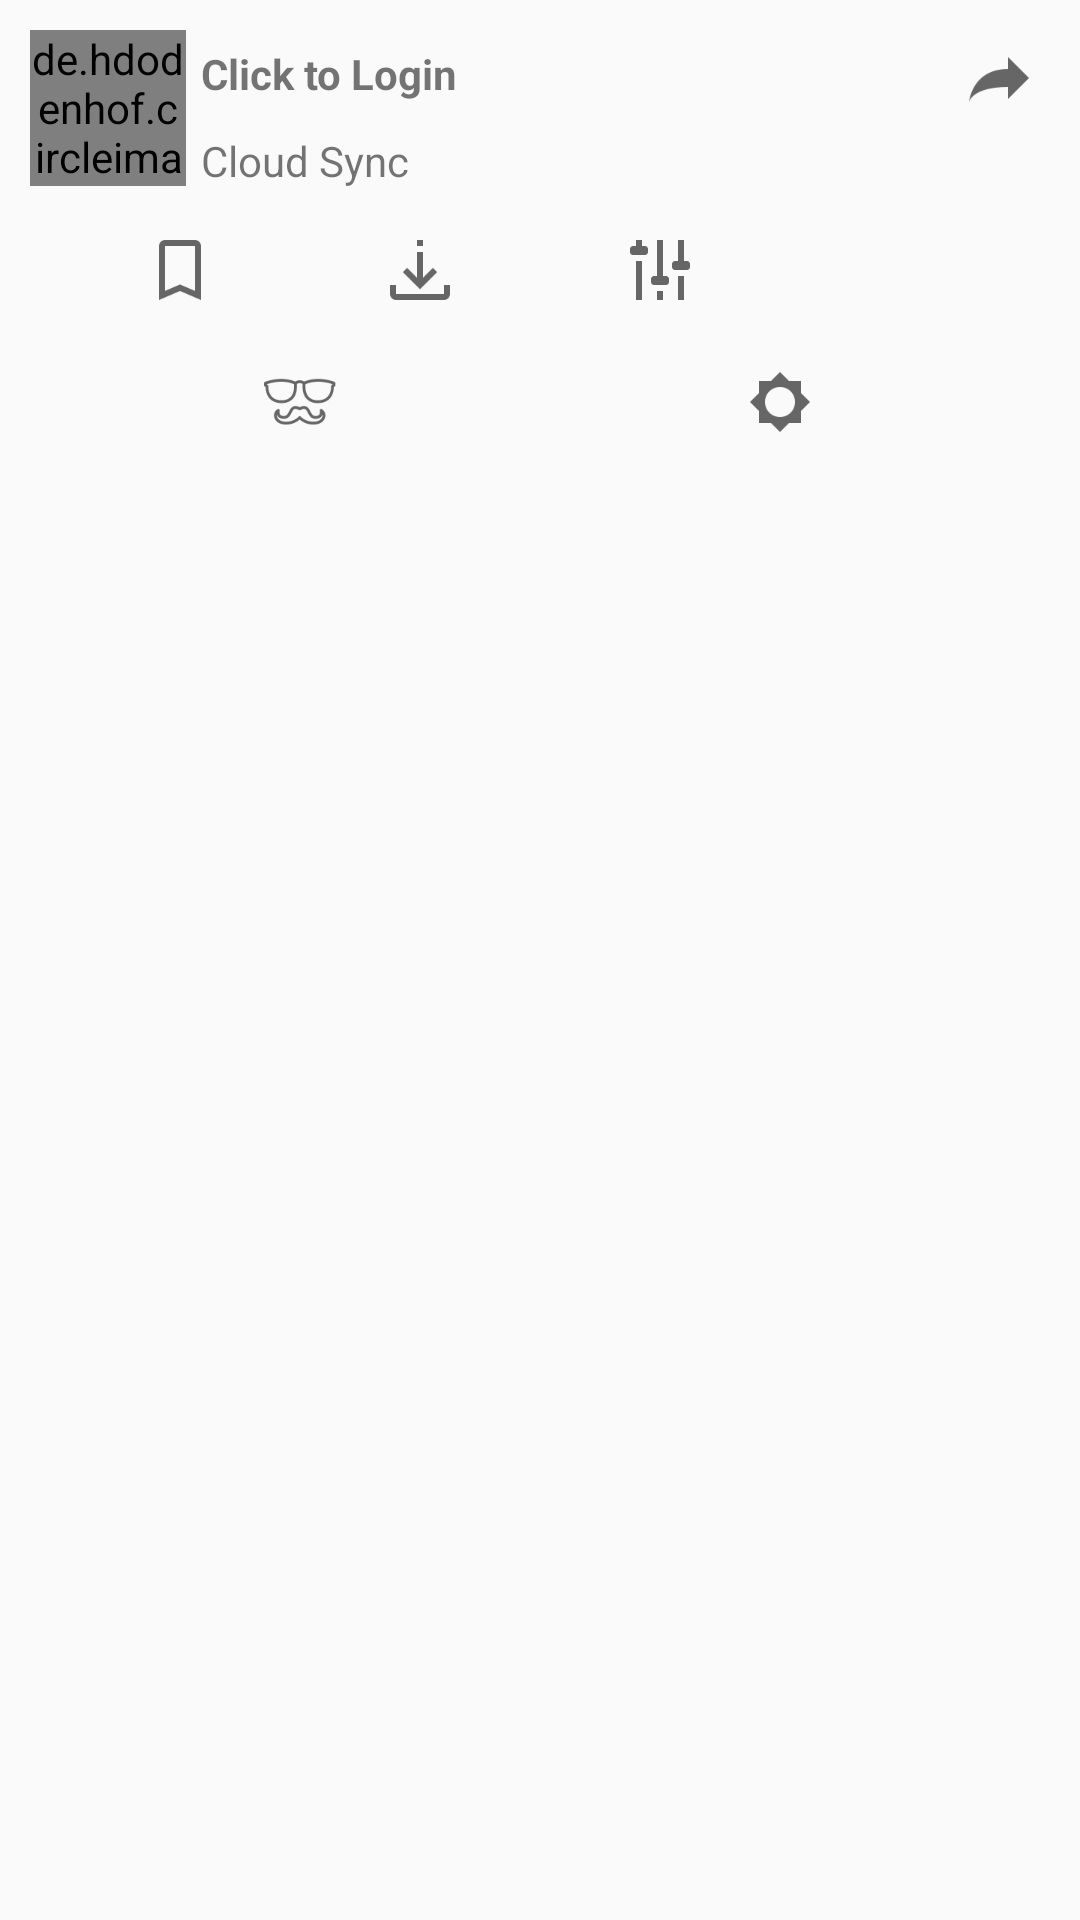

Screen size 1080x1920. Icon name, then its box in pixels as (x1, y1, x2, y2):
bookmark: (159, 240, 201, 300)
download: (390, 240, 450, 300)
incognito off: (264, 379, 336, 425)
night mode off: (750, 372, 810, 432)
settings: (630, 240, 690, 300)
share: (969, 57, 1029, 101)
